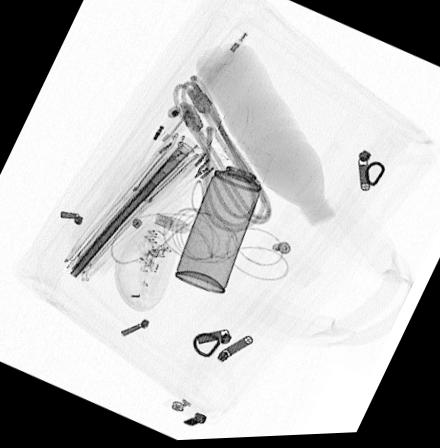Sprayer: (172, 141, 273, 297)
